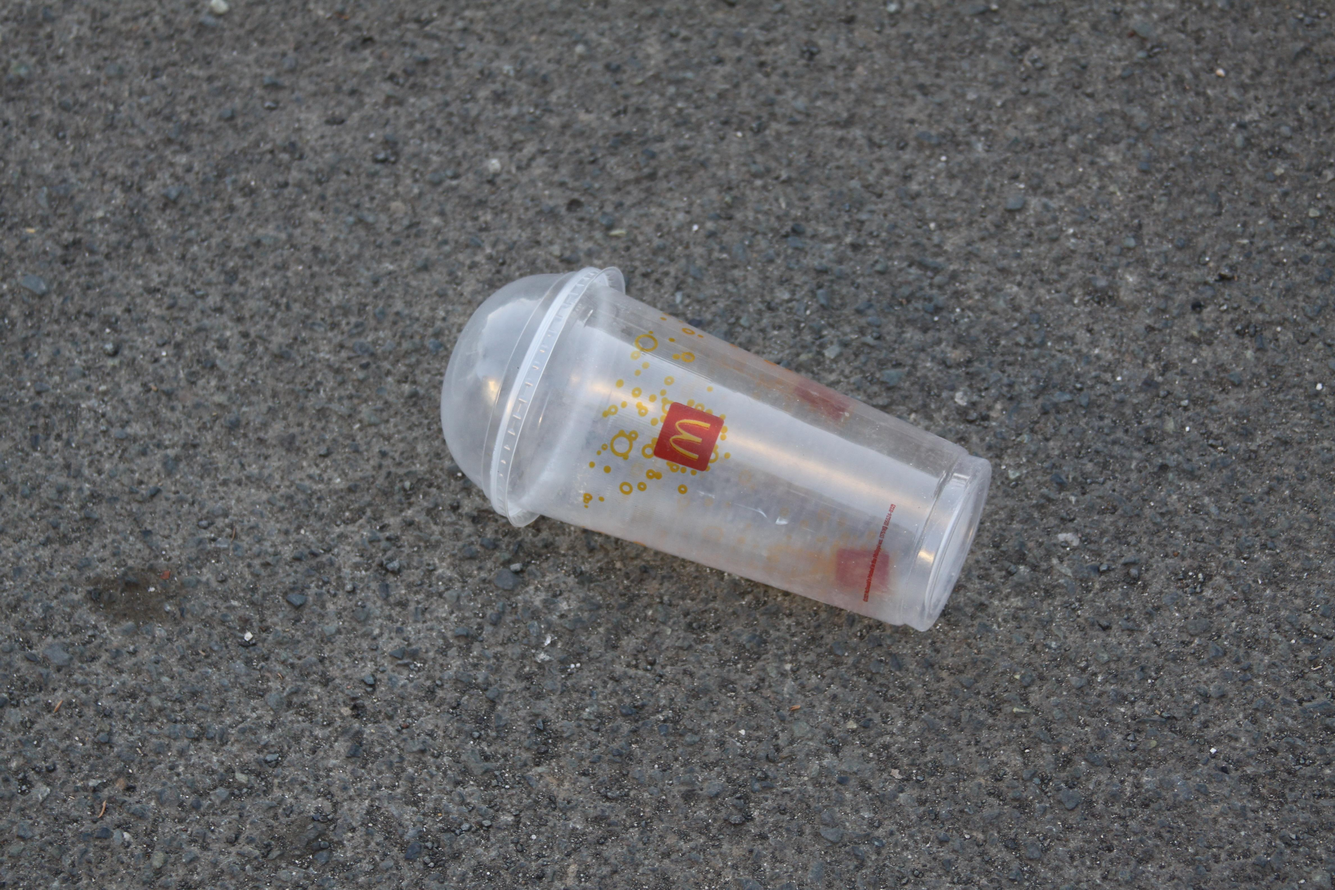Plastic: (435, 259, 997, 638)
